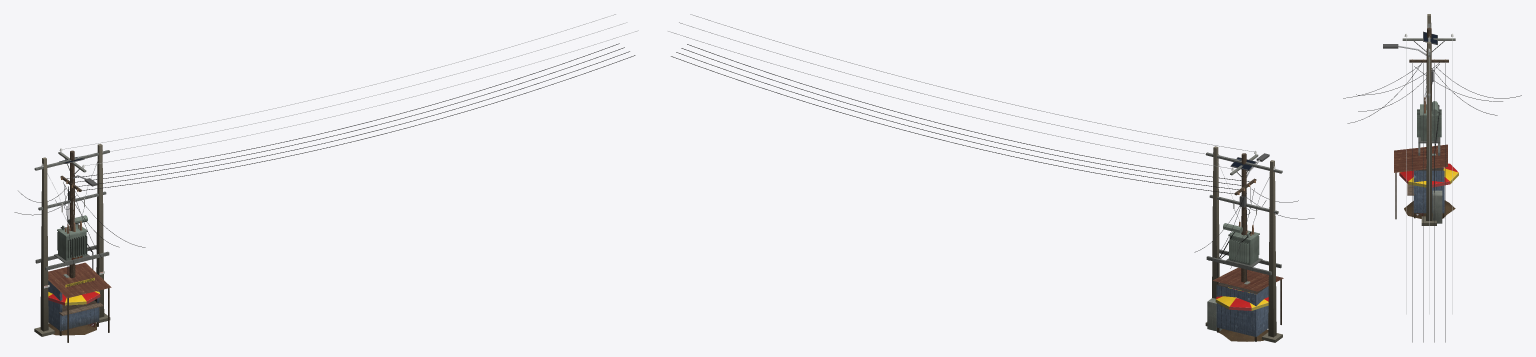
File: env_props.glb
The picture shows the model from 3 angles, left to right: view 1: azimuth 30°, elevation 25°; view 2: azimuth 150°, elevation 25°; view 3: azimuth 270°, elevation 25°; orthographic projection. The views are drawn at different scales.
Visible parts, largest first — view 1: prop_transformer, prop_wire_span_30m, prop_kiosk, prop_electric_pole; view 2: prop_transformer, prop_wire_span_30m, prop_kiosk, prop_electric_pole, prop_umbrella; view 3: prop_transformer, prop_kiosk, prop_wire_span_30m, prop_electric_pole, prop_umbrella, prop_street_lamp, prop_trash_heap.
Boxes of the visible parts, x1=… form: prop_transformer: x1=34, y1=144, x2=110, y2=336; prop_wire_span_30m: x1=62, y1=14, x2=638, y2=190; prop_kiosk: x1=48, y1=262, x2=111, y2=342; prop_electric_pole: x1=14, y1=148, x2=145, y2=277; prop_transformer: x1=1205, y1=146, x2=1282, y2=342; prop_wire_span_30m: x1=668, y1=14, x2=1254, y2=193; prop_kiosk: x1=1213, y1=267, x2=1283, y2=341; prop_electric_pole: x1=1194, y1=150, x2=1314, y2=292; prop_umbrella: x1=1215, y1=287, x2=1268, y2=310; prop_transformer: x1=1417, y1=14, x2=1442, y2=225; prop_kiosk: x1=1394, y1=144, x2=1447, y2=219; prop_wire_span_30m: x1=1406, y1=36, x2=1452, y2=342; prop_electric_pole: x1=1343, y1=27, x2=1521, y2=158; prop_umbrella: x1=1399, y1=163, x2=1458, y2=187; prop_street_lamp: x1=1383, y1=31, x2=1437, y2=81; prop_trash_heap: x1=1404, y1=200, x2=1455, y2=218.
Bounding box in the file's own units: 32 × 9.01 × 8.11.
27 materials, 19 textured.
